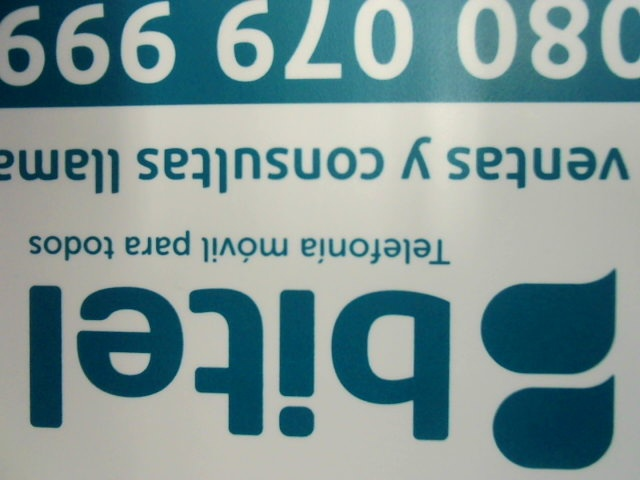BE_bitel: (19, 263, 623, 469)
